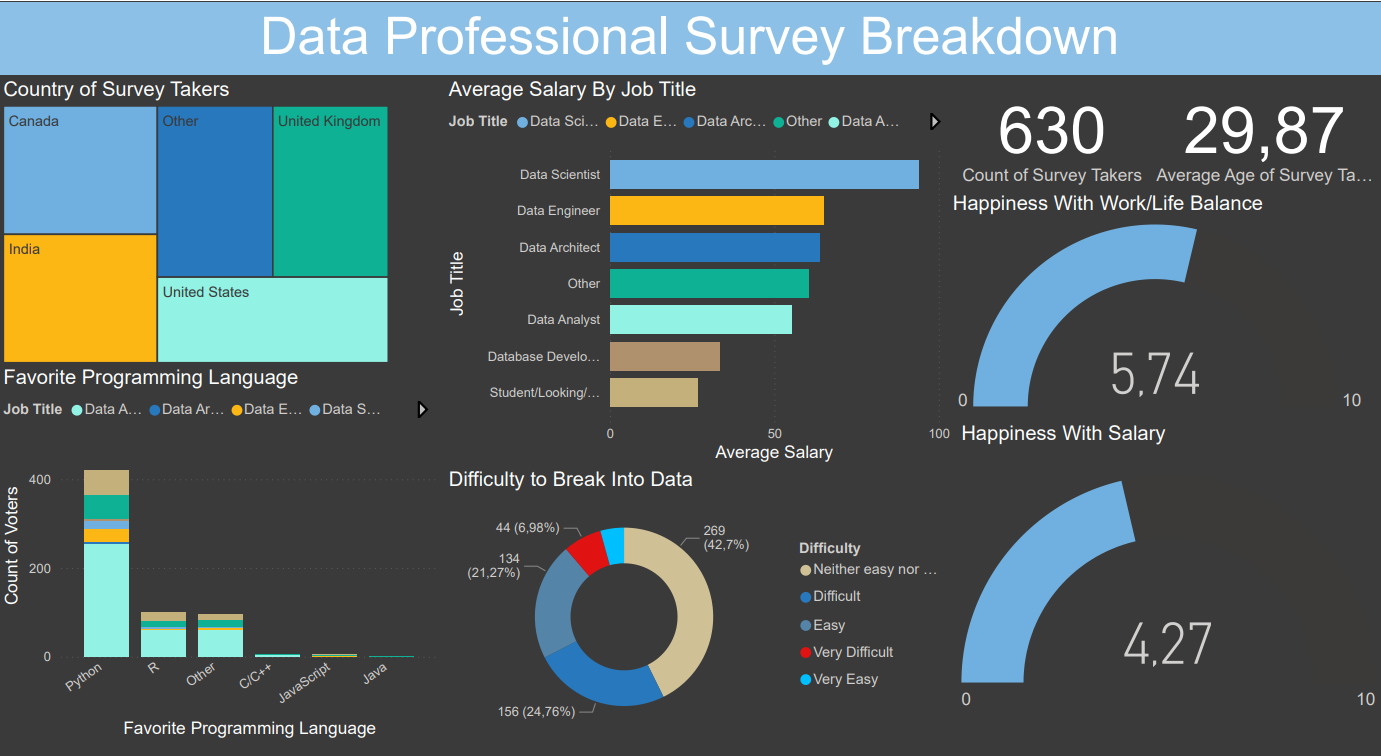

The page's visual inventory and layout, read from the dashboard file:
{"tool":"powerbi","page":{"name":"Page 1","canvas":[1280,720],"ordinal":0},"visuals":[{"type":"textbox","box":[0,0,1271,66.9],"z":0},{"type":"card","fields":{"Values":["Count(Data Professional Survey.Unique ID)"]},"box":[886.3,71.1,177.7,104.5],"z":1000},{"type":"card","fields":{"Values":["Avg(Data Professional Survey.Q10 - Current Age)"]},"box":[1064,71.1,215.3,104.5],"z":2000},{"type":"barChart","title":"Average Salary By Job Title","fields":{"Category":["Data Professional Survey.Q1 - Which Title Best Fits your Current Role?.1"],"Y":["Avg(Data Professional Survey.Average Salary)"],"Series":["Data Professional Survey.Q1 - Which Title Best Fits your Current Role?.1"]},"box":[411.8,71.1,474.5,359.5],"z":3000},{"type":"columnChart","title":"Favorite Programming Language","fields":{"Category":["Data Professional Survey.Q5 - Favorite Programming Language.1"],"Y":["CountNonNull(Data Professional Survey.Unique ID)"],"Series":["Data Professional Survey.Q1 - Which Title Best Fits your Current Role?.1"]},"box":[0,336.6,411.8,349.1],"z":4000},{"type":"treemap","title":"Country of Survey Takers","fields":{"Values":["Count(Data Professional Survey.Q11 - Which Country do you live in?.1)"],"Group":["Data Professional Survey.Q11 - Which Country do you live in?.1"]},"box":[0,71.1,365.8,267.6],"z":5000},{"type":"gauge","title":"Happiness With Work/Life Balance","fields":{"Y":["Avg(Data Professional Survey.Q6 - How Happy are you in your Current Position with the following? (Work/Life Balance))"],"MinValue":["Min(Data Professional Survey.Q6 - How Happy are you in your Current Position with the following? (Work/Life Balance))1"],"MaxValue":["Max(Data Professional Survey.Q6 - How Happy are you in your Current Position with the following? (Work/Life Balance))2"]},"box":[878,175.6,393,213.2],"z":5001},{"type":"gauge","title":"Happiness With Salary","fields":{"Y":["Avg(Data Professional Survey.Q6 - How Happy are you in your Current Position with the following? (Salary))"],"MinValue":["Min(Data Professional Survey.Q6 - How Happy are you in your Current Position with the following? (Salary))1"],"MaxValue":["Max(Data Professional Survey.Q6 - How Happy are you in your Current Position with the following? (Salary))2"]},"box":[886.3,388.8,393,296.8],"z":5002},{"type":"donutChart","title":"Difficulty to Break Into Data","fields":{"Category":["Data Professional Survey.Q7 - How difficult was it for you to break into Data?"],"Y":["CountNonNull(Data Professional Survey.Q7 - How difficult was it for you to break into Data?)"]},"box":[411.8,430.6,474.5,255],"z":5003}]}

Visuals, with their boxes in screenshot pixels (x1, y1, x2, y2), scaled from the page's 1280x720 canvas onto the 1381x756 screenshot:
textbox: <region>0, 0, 1371, 70</region>
card - Count(Data Professional Survey.Unique ID): <region>956, 75, 1148, 184</region>
card - Avg(Data Professional Survey.Q10 - Current Age): <region>1148, 75, 1380, 184</region>
"Average Salary By Job Title" barChart: <region>444, 75, 956, 452</region>
"Favorite Programming Language" columnChart: <region>0, 353, 444, 720</region>
"Country of Survey Takers" treemap: <region>0, 75, 395, 356</region>
"Happiness With Work/Life Balance" gauge: <region>947, 184, 1371, 408</region>
"Happiness With Salary" gauge: <region>956, 408, 1380, 720</region>
"Difficulty to Break Into Data" donutChart: <region>444, 452, 956, 720</region>
